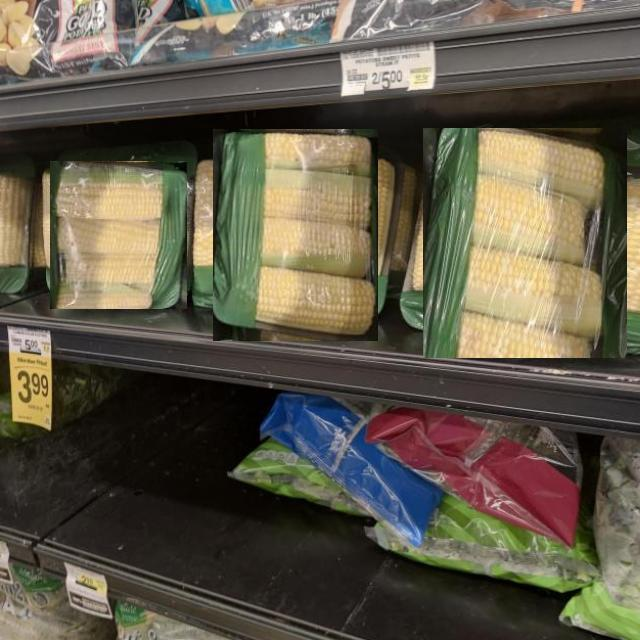Corn: (422, 129, 627, 358), (212, 129, 378, 341), (51, 161, 187, 309)
